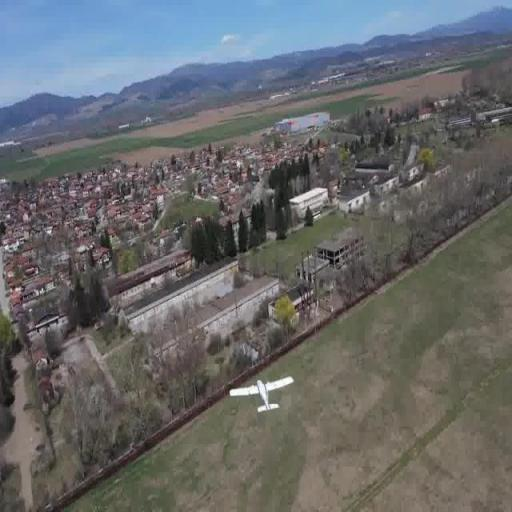uav: (225, 373, 301, 417)
